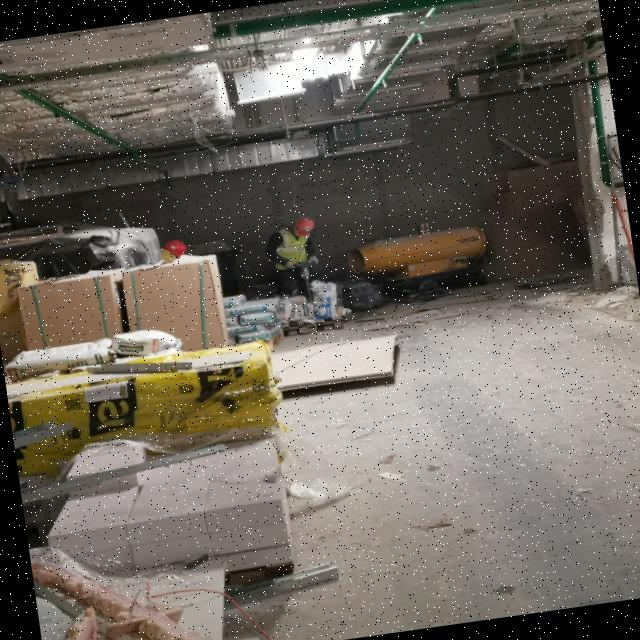Helmet: (293, 216, 319, 240), (164, 240, 188, 260)
Jacket: (278, 230, 313, 272)
